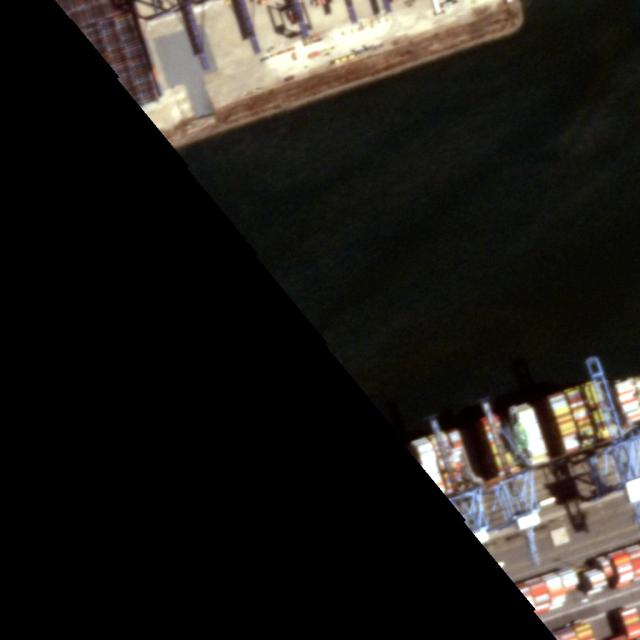crane: (480, 403, 547, 561), (587, 361, 639, 522)
